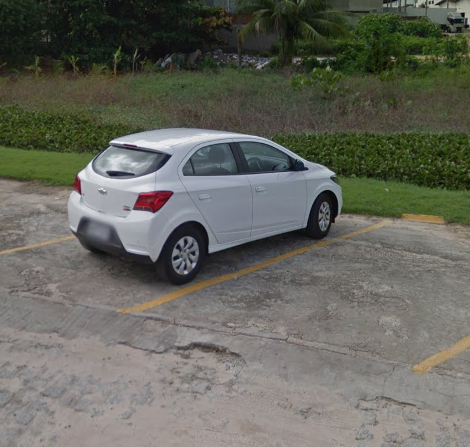car: (68, 126, 345, 288)
